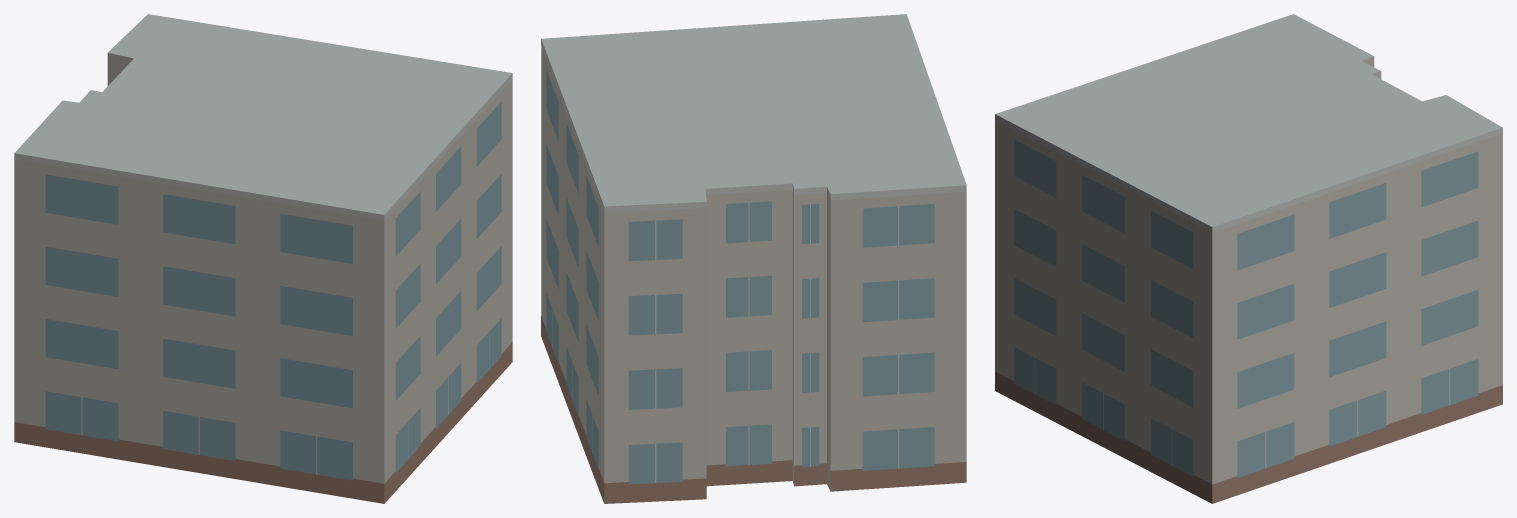
File: survey-upis-32682364.glb
The picture shows the model from 3 angles, left to right: view 1: azimuth 30°, elevation 25°; view 2: azimuth 150°, elevation 25°; view 3: azimuth 270°, elevation 25°; orthographic projection. The views are drawn at different scales.
Visible parts, largest first — view 1: survey-upis-32682364.tmp; view 2: survey-upis-32682364.tmp; view 3: survey-upis-32682364.tmp.
Part boxes in pixels (x1,y1,x2,y2): survey-upis-32682364.tmp: [14, 14, 512, 503]; survey-upis-32682364.tmp: [541, 14, 966, 503]; survey-upis-32682364.tmp: [995, 14, 1502, 503].
Bounding box in the file's own units: 19 × 11.5 × 19.13.
